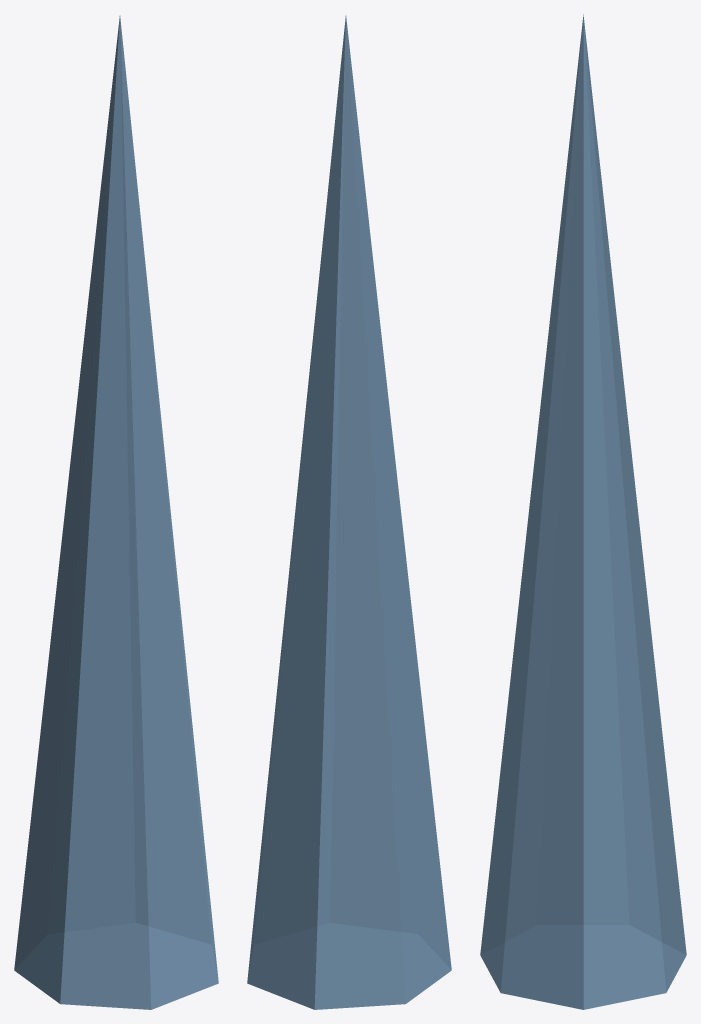
File: Spike.fbx
The picture shows the model from 3 angles, left to right: view 1: azimuth 30°, elevation 25°; view 2: azimuth 150°, elevation 25°; view 3: azimuth 270°, elevation 25°; orthographic projection.
Visible parts, largest first — view 1: pCone1; view 2: pCone1; view 3: pCone1.
Boxes of the visible parts, x1,y1,x2,y2 form: pCone1: [14, 15, 218, 1009]; pCone1: [247, 15, 451, 1009]; pCone1: [480, 14, 686, 1009].
Bounding box in the file's own units: 0.5965 × 3.11 × 0.6118.
